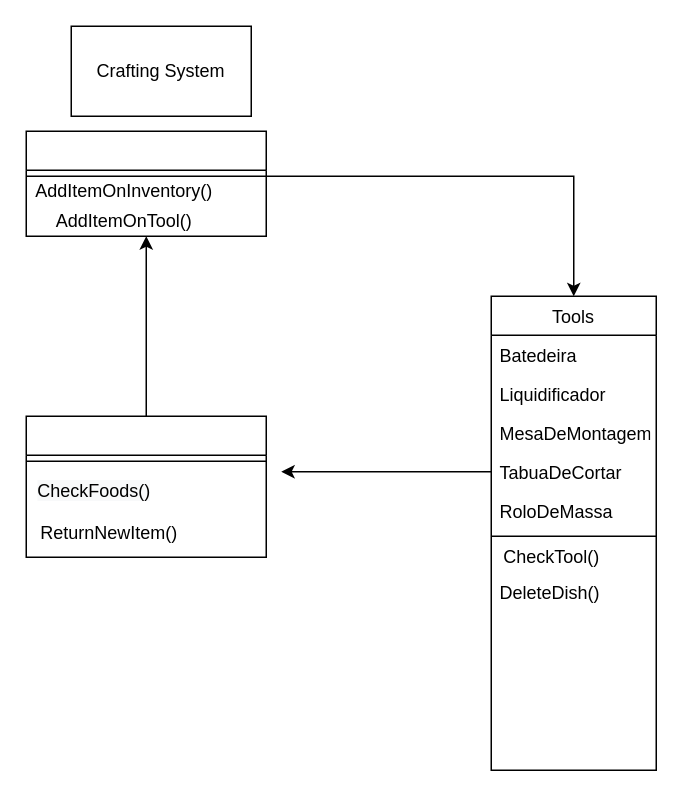
Some shapes in this 683 by 797 pixel diagram are drawn without their labels. Each missing label, with the box of its shape:
CheckCombinations: (25, 415, 266, 557)
Player: (25, 130, 266, 236)
